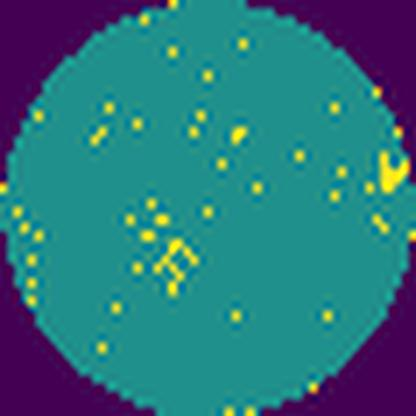Edge-Loc: (153, 238, 205, 292), (379, 151, 406, 190)
